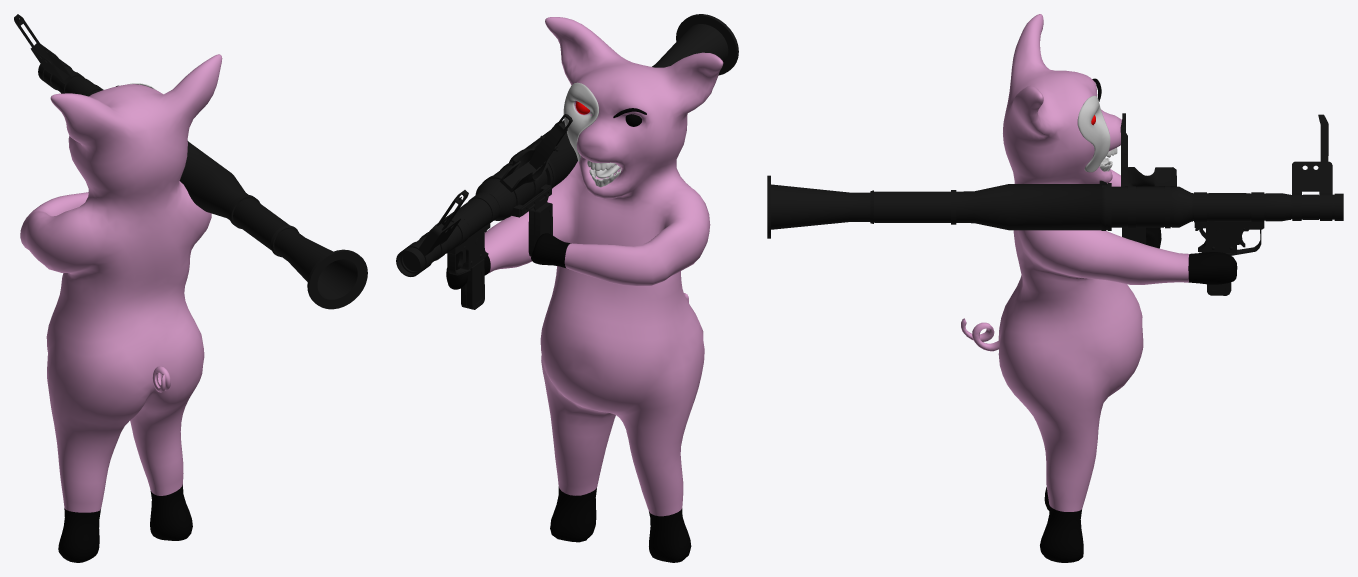
The model's file is PIG.FBX.
3 renders of one model, left to right at view 1: azimuth 30°, elevation 25°; view 2: azimuth 150°, elevation 25°; view 3: azimuth 270°, elevation 25°, orthographic. The views are drawn at different scales.
Parts seen in each view (by area): view 1: PIG; view 2: PIG; view 3: PIG.
Part boxes in pixels (left/top/right/bottom): PIG: left=14, top=14, right=367, bottom=562; PIG: left=396, top=14, right=738, bottom=562; PIG: left=767, top=14, right=1343, bottom=562.
Bounding box in the file's own units: 1.43 × 3.66 × 3.96.
